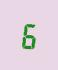six: (19, 19, 36, 50)
